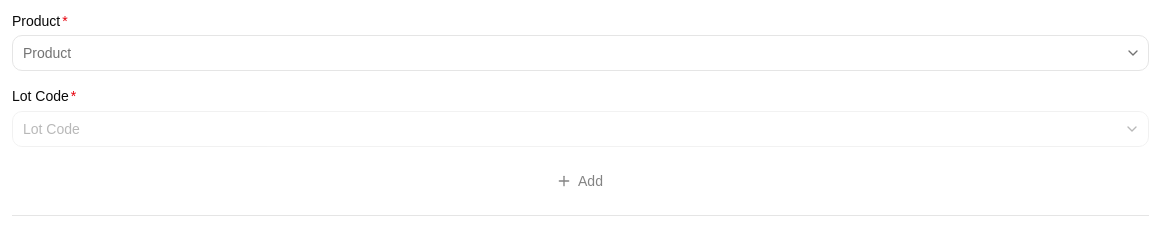
Test: ProductLotPicker with approved products › distinguishes no approved products from a server search with no matches
Click the dropdown labelled "Product" at (567, 53), box 13,37 -> 1121,69
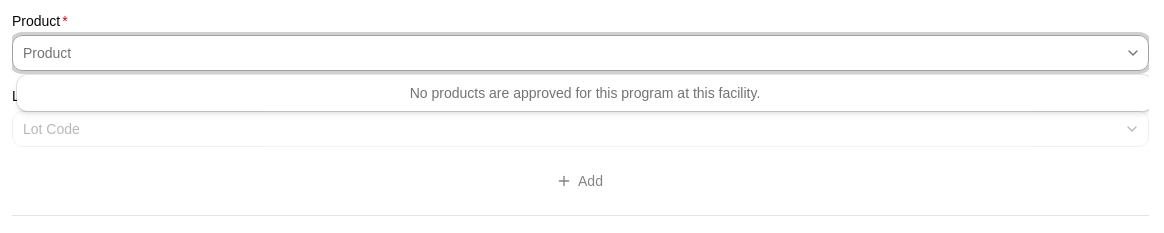
expect the text "No Matching Products" is not shown: met
expect the text "No products are approved for this program at this facility." is shown: met, box 410,85 -> 760,101
Type "missing" into the dropdown labelled "Product*" at (567, 53), box 13,37 -> 1121,69
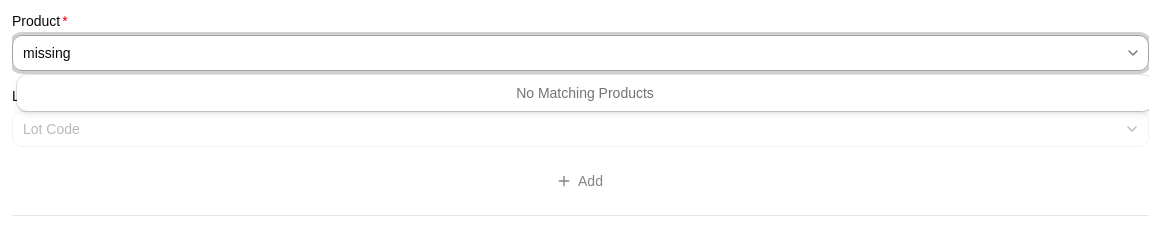
expect the text "No Matching Products" is shown: met, box 516,85 -> 654,101
expect the text "No products are approved for this program at this facility." is gone: met
